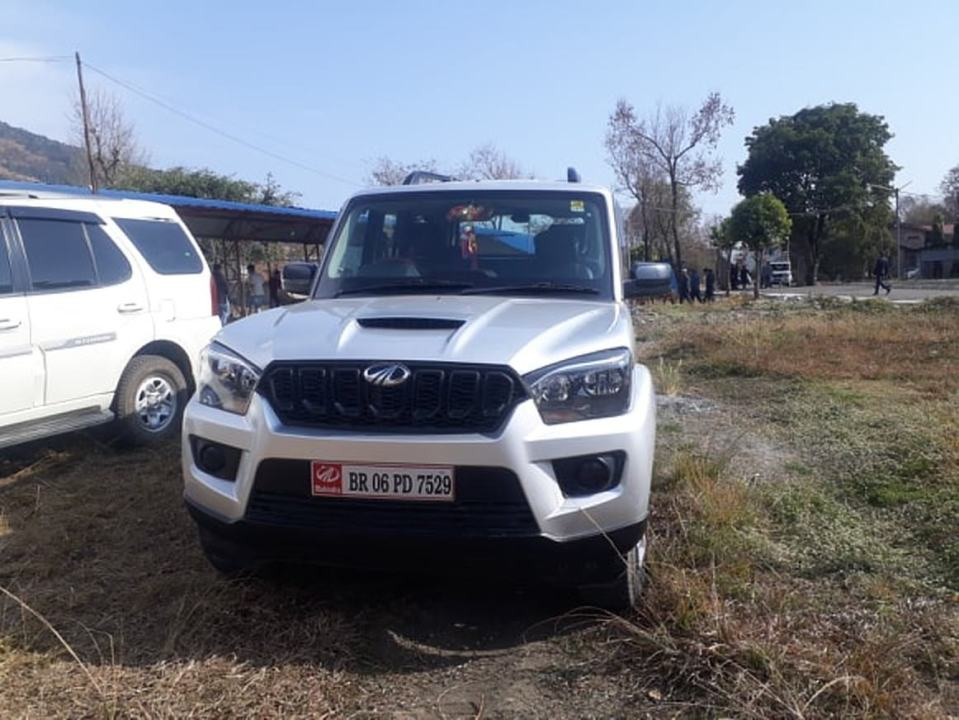number_plate: (305, 459, 457, 504)
